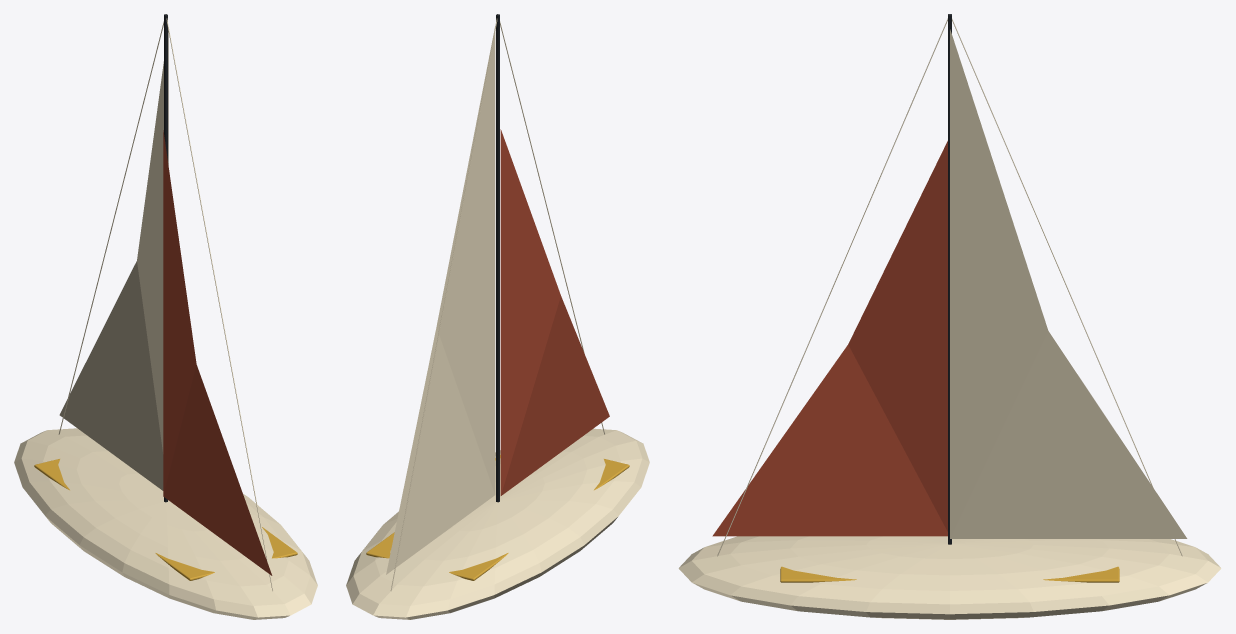
File: sailboat.glb
3 renders of one model, left to right at view 1: azimuth 30°, elevation 25°; view 2: azimuth 150°, elevation 25°; view 3: azimuth 270°, elevation 25°, orthographic. The views are drawn at different scales.
Visible parts, largest first — view 1: ivory, red, yellow, ink; view 2: ivory, red, ink, yellow; view 3: ivory, red, yellow, ink.
Part boxes in pixels (left/top/right/bottom): ivory: left=14, top=14, right=317, bottom=619; red: left=163, top=130, right=272, bottom=575; yellow: left=34, top=459, right=297, bottom=580; ink: left=164, top=14, right=167, bottom=502; ivory: left=346, top=14, right=649, bottom=619; red: left=500, top=129, right=609, bottom=495; ink: left=496, top=14, right=499, bottom=502; yellow: left=366, top=455, right=629, bottom=580; ivory: left=678, top=18, right=1221, bottom=619; red: left=712, top=141, right=947, bottom=536; yellow: left=780, top=566, right=1119, bottom=582; ink: left=948, top=14, right=951, bottom=544.
Bounding box in the file's own units: 6.4 × 18.8 × 16.
